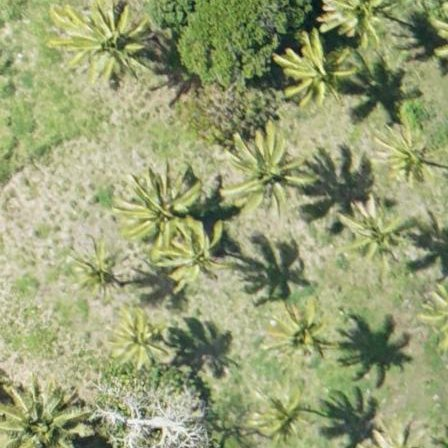palm_tree: (114, 164, 199, 254), (78, 5, 149, 81), (1, 379, 78, 448), (229, 135, 299, 209), (373, 120, 443, 189), (102, 305, 169, 377), (155, 227, 220, 296), (283, 41, 343, 106), (247, 387, 310, 448), (341, 197, 401, 261), (267, 305, 326, 365), (325, 1, 386, 39), (79, 244, 120, 288)
